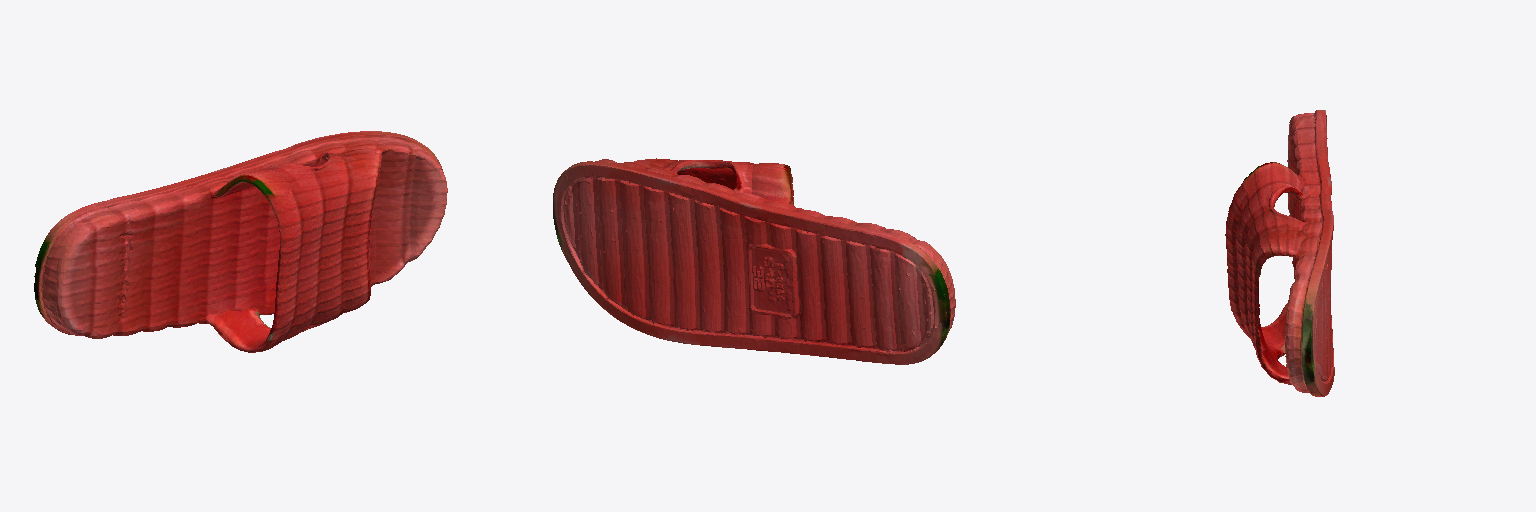
3 views of the same model, side by side, from view 1: azimuth 30°, elevation 25°; view 2: azimuth 150°, elevation 25°; view 3: azimuth 270°, elevation 25° (orthographic).
Size of the model in its own units: 249 by 103 by 58.74.
1 materials, 1 textured.